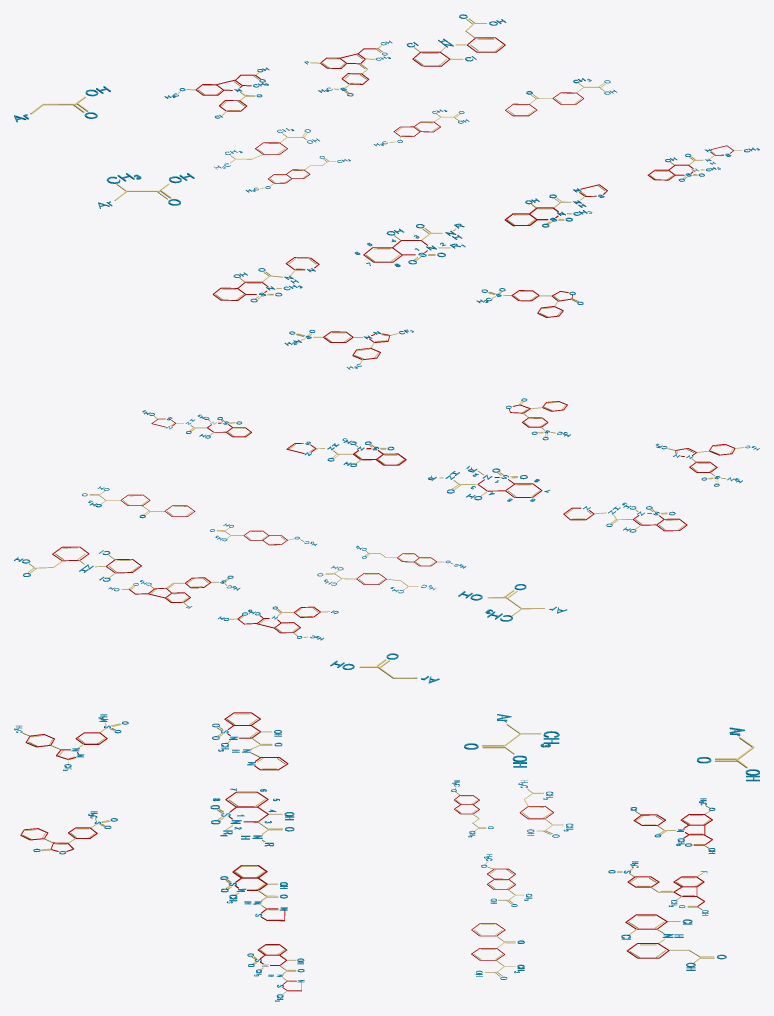
The model's file is 非淄体抗炎药.FBX.
3 views of the same model, one above another, from view 1: azimuth 30°, elevation 25°; view 2: azimuth 150°, elevation 25°; view 3: azimuth 270°, elevation 25° (orthographic). The views are drawn at different scales.
Bounding box in the file's own units: 249 × 0.495 × 272.
